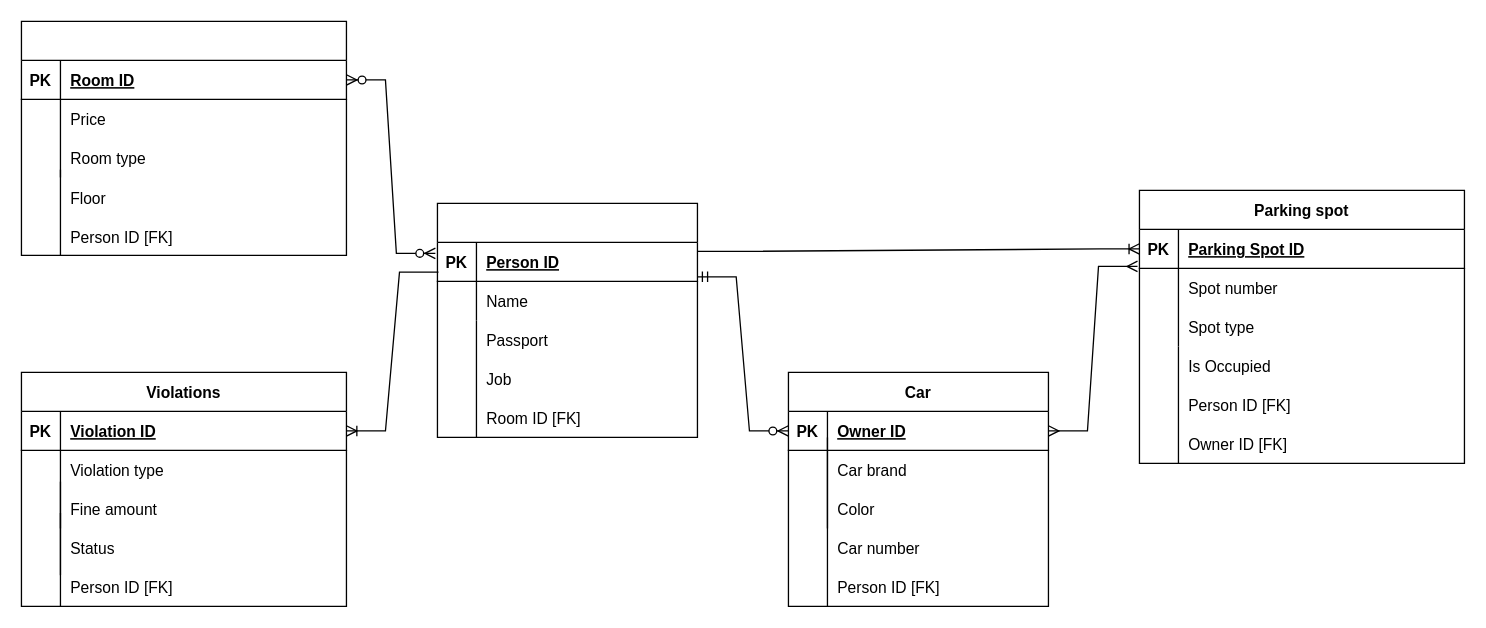
The diagram is 1486 pixels wide and 628 high, and some of its shapes have lost their labels. The box of each missing label's shape, as (x1, y1, x2, y2) in pixels:
Hotel room: (20, 20, 346, 255)
People: (436, 202, 697, 437)
